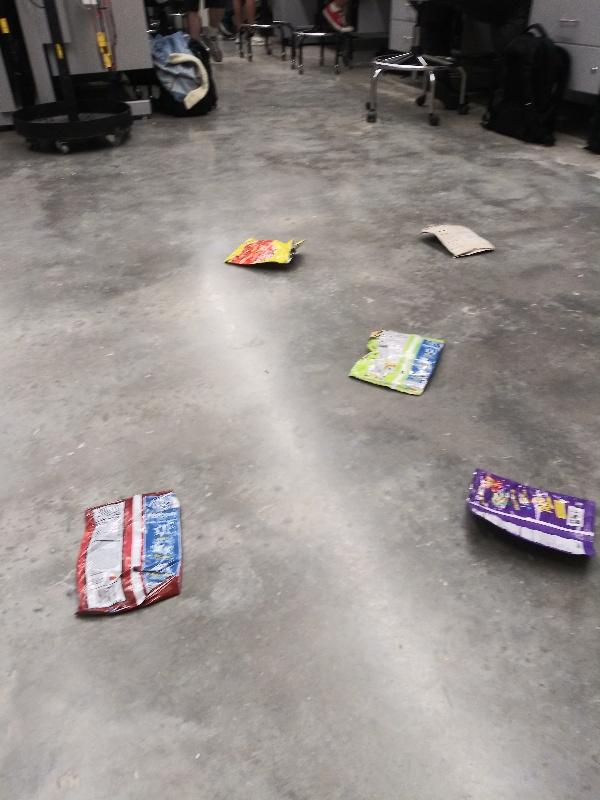bag: (74, 486, 195, 622), (459, 468, 600, 566), (343, 325, 451, 403), (414, 219, 499, 262), (222, 232, 312, 271)
